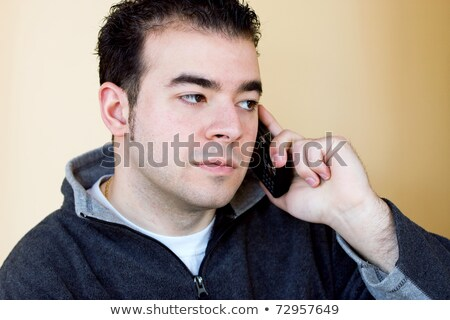phone: (243, 107, 309, 198)
talk: (163, 67, 353, 217)
